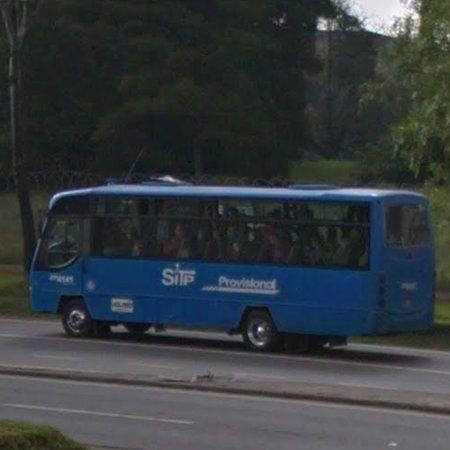buses: (29, 184, 437, 351)
